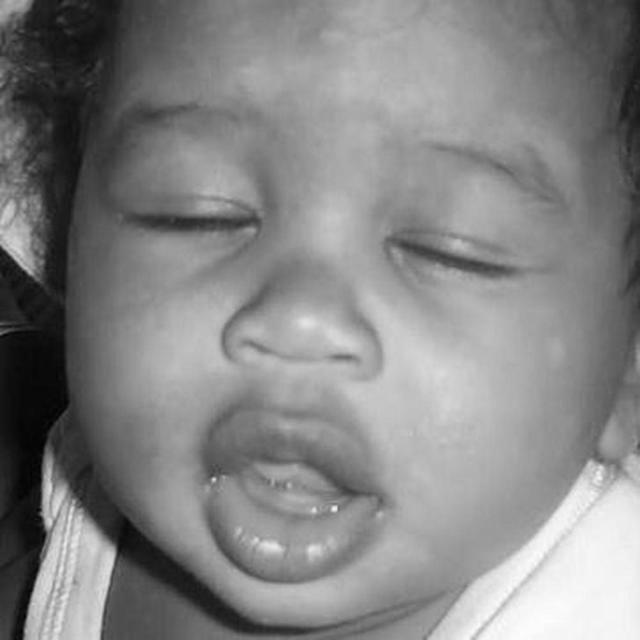real: (65, 0, 640, 628), (108, 129, 574, 309)
